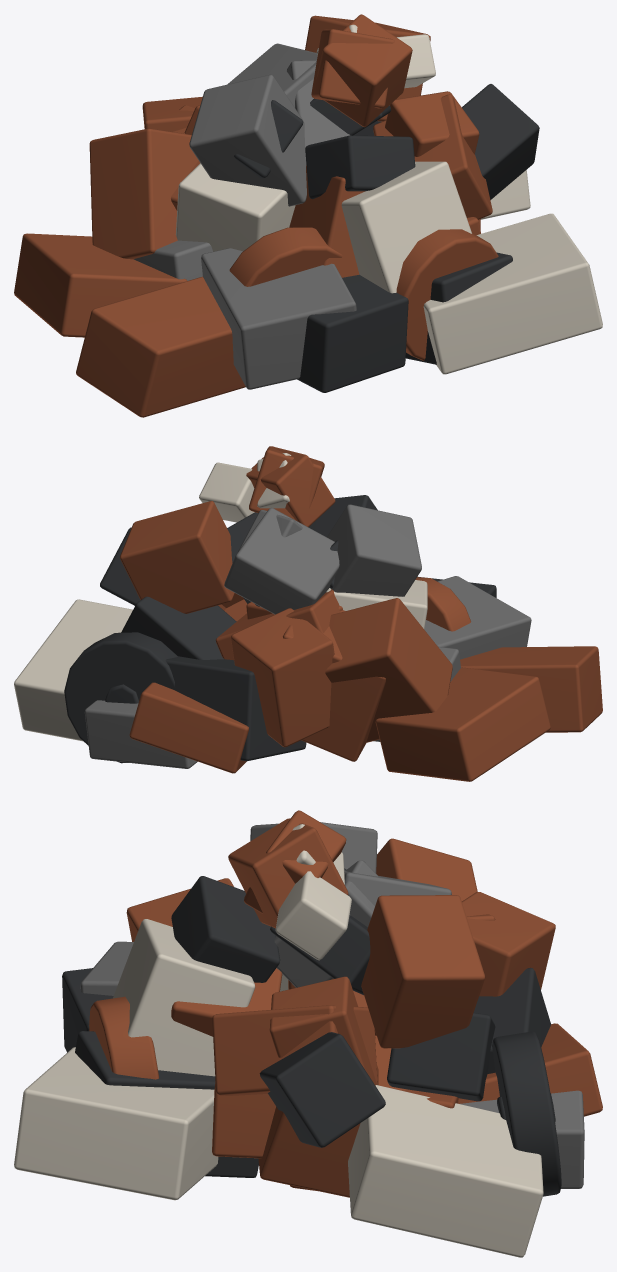
The model's file is scrap-pile-b.glb.
3 renders of one model, top to bottom at view 1: azimuth 30°, elevation 25°; view 2: azimuth 150°, elevation 25°; view 3: azimuth 270°, elevation 25°, orthographic. The views are drawn at different scales.
Visible parts, largest first — view 1: scrap-pile-b; view 2: scrap-pile-b; view 3: scrap-pile-b.
Boxes of the visible parts, box(x1,y1,x2,y2) form: scrap-pile-b: box(14, 14, 602, 417); scrap-pile-b: box(14, 446, 602, 781); scrap-pile-b: box(14, 810, 602, 1257).
Bounding box in the file's own units: 4.43 × 2.52 × 3.91.
